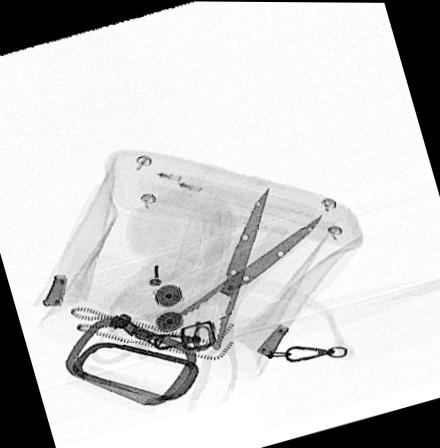Scissors: (86, 184, 324, 413)
